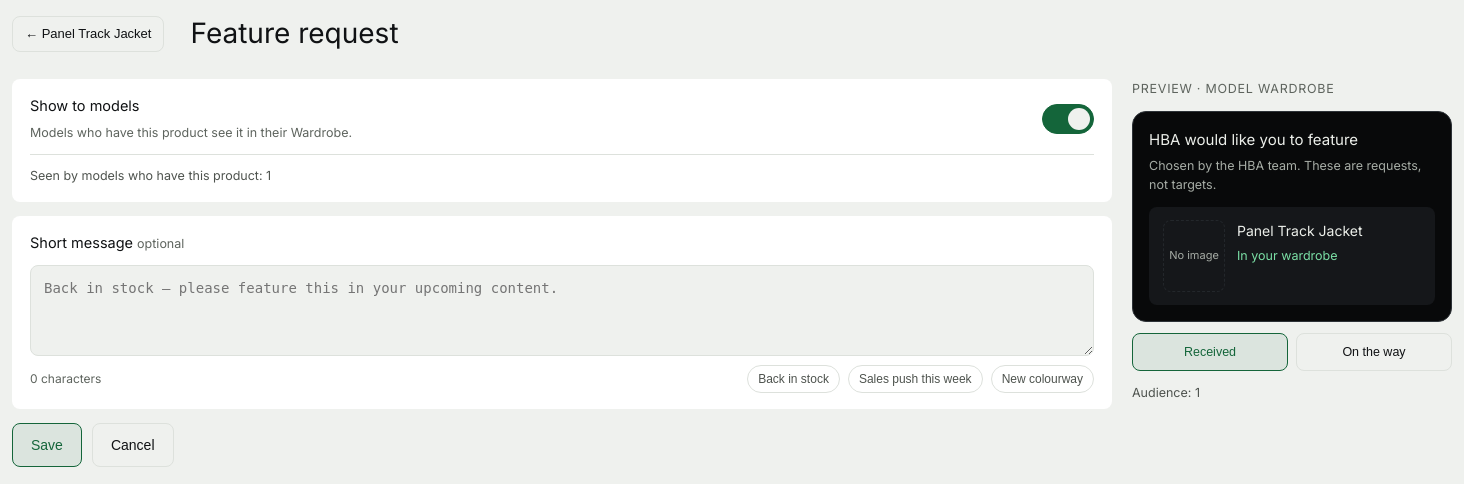
a product's coverage names the order that carried it (item 16) › the message presets fill the message, which counts its characters
Click the button "New colourway".
click(1042, 379)  # box [991, 365, 1094, 393]
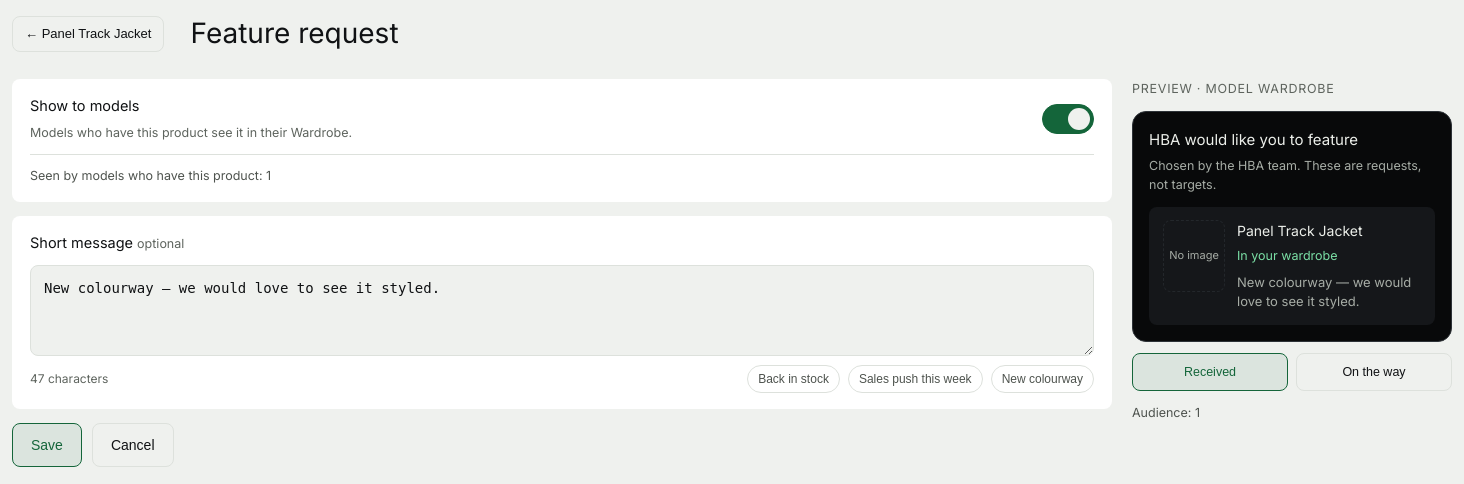
Now the text box labelled "Short message optional" holds "New colourway — we would love to see it styled.", box [30, 265, 1094, 356]
